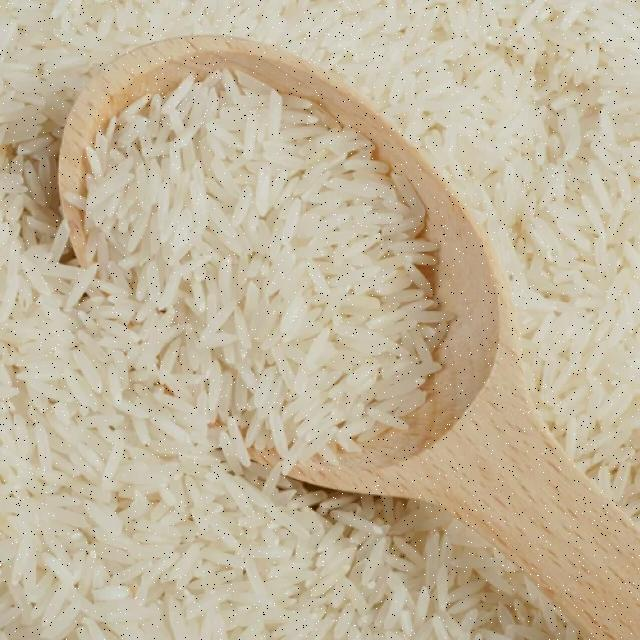Rice: (120, 106, 418, 432), (472, 0, 640, 434), (40, 452, 413, 640)
